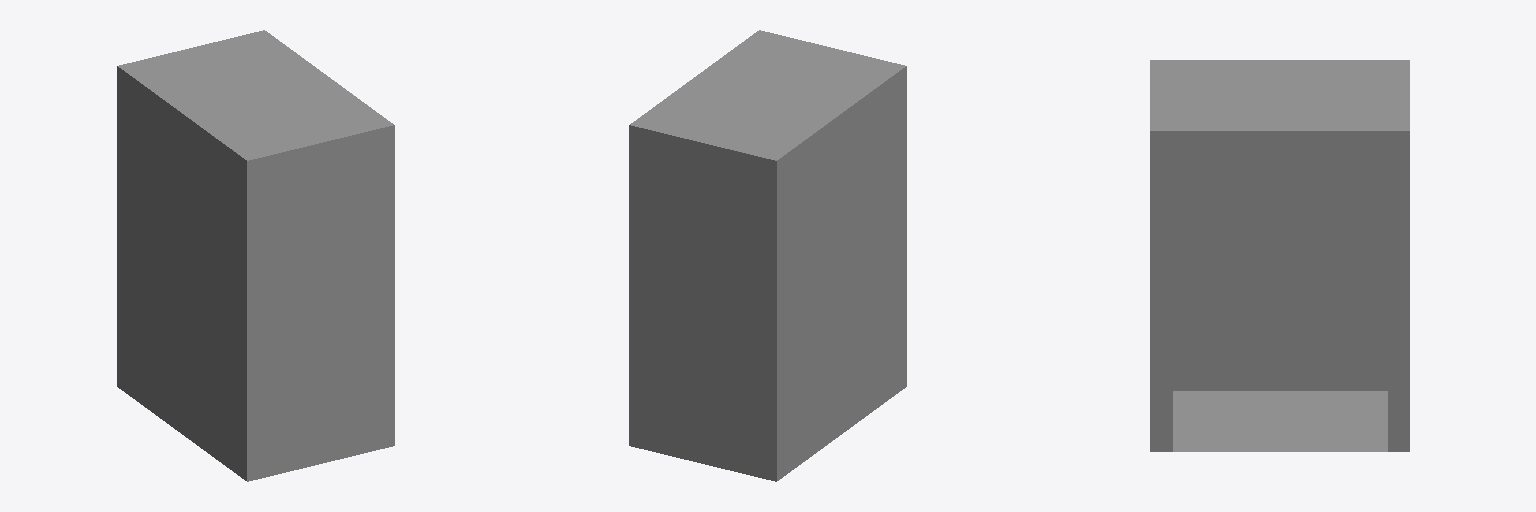
The model's file is Placard.obj.
3 views of the same model, side by side, from view 1: azimuth 30°, elevation 25°; view 2: azimuth 150°, elevation 25°; view 3: azimuth 270°, elevation 25° (orthographic).
Parts seen in each view (by area): view 1: Cube; view 2: Cube; view 3: Cube.
Part boxes in pixels (x1,y1,x2,y2): Cube: (117,30,394,481); Cube: (629,30,906,481); Cube: (1150,60,1409,451).
Bounding box in the file's own units: 1.44 × 3 × 2.2.